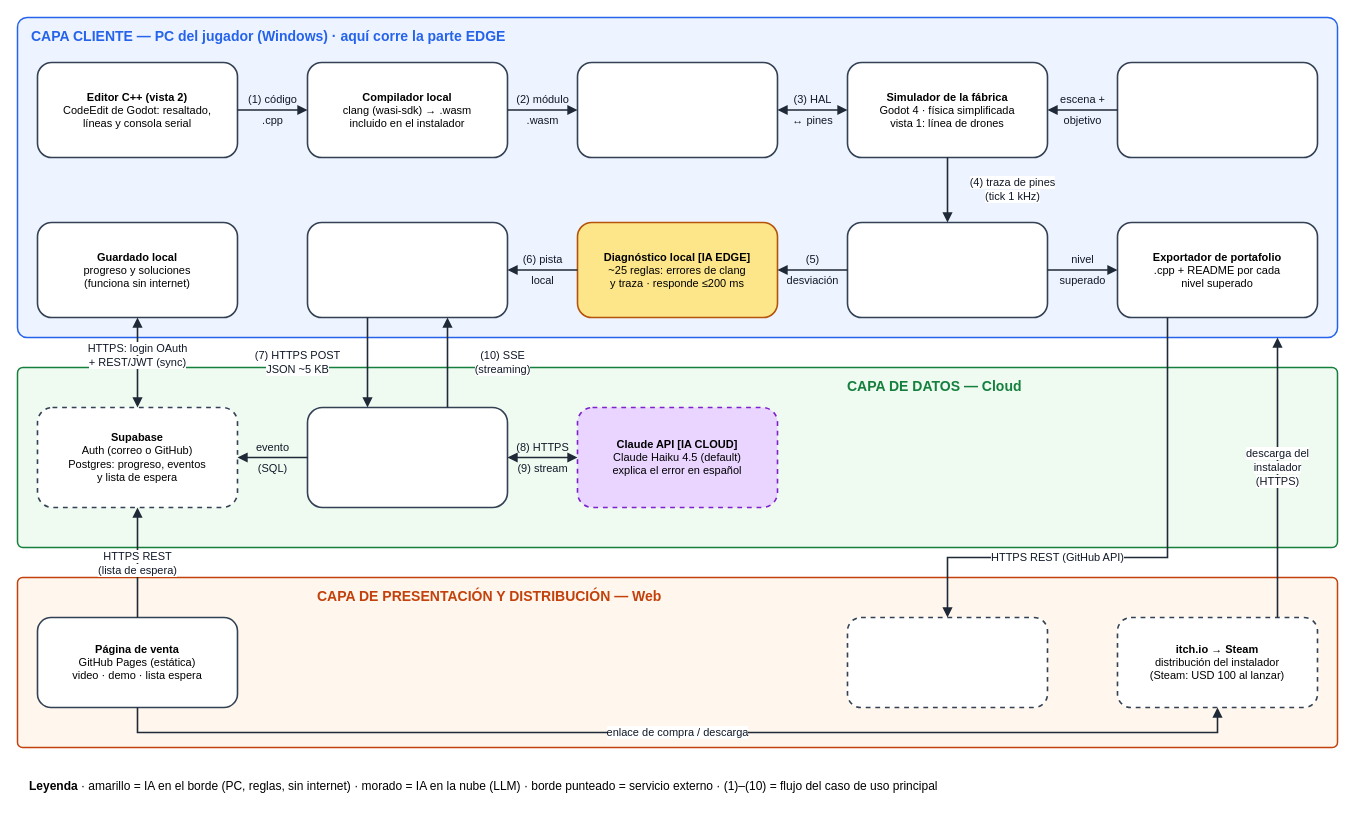
This 1356x830 diagram has some shape labels left out. The shapes that lost their labels are listed below. From the top down, each one's centre as x and y in pixels, then its label:
At pixel 677 109: "MCU virtual runtime WAMR + HAL «gpio.h» (API igual a Arduino-ESP32)".
At pixel 1217 109: "Niveles (datos) escena, piezas, objetivo y pruebas de cada nivel (JSON)".
At pixel 407 269: "Panel copiloto (vista 3) explicación + línea marcada + botón «otra pista»".
At pixel 947 269: "Validador del nivel compara la traza contra el objetivo del nivel".
At pixel 407 457: "Edge Function «copiloto» valida JWT · cuota · caché no envía datos personales".
At pixel 947 662: "GitHub repo de portafolio del jugador (opcional, OAuth)".
